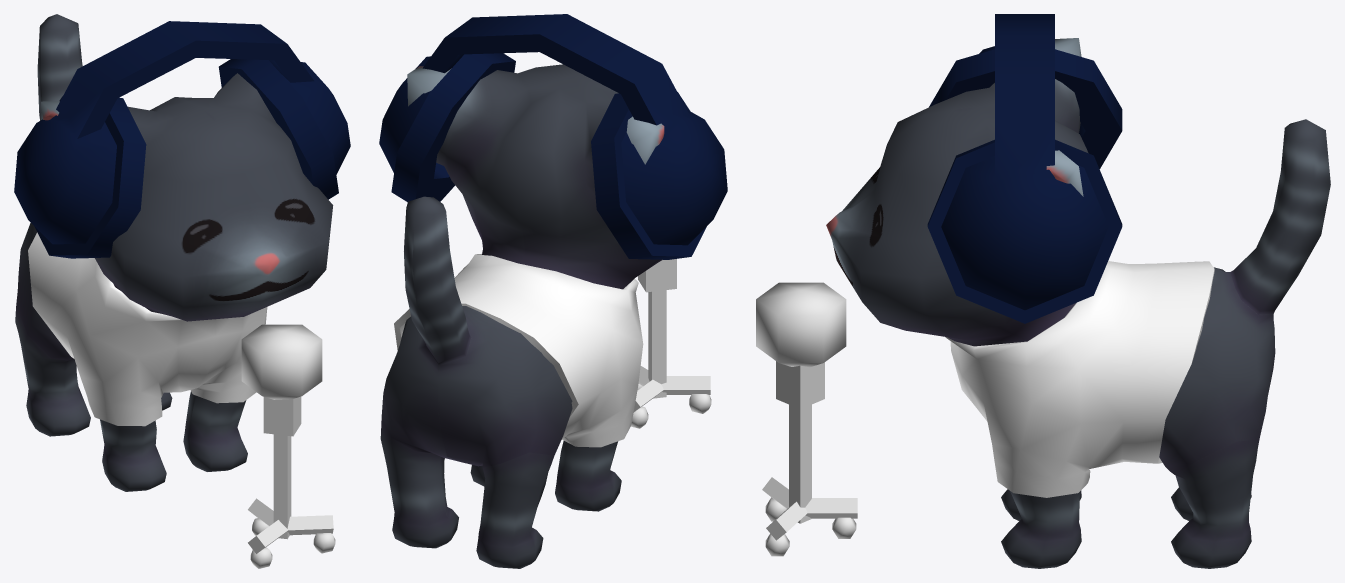
Rendered from Broadcaster Cat04.fbx.
The picture shows the model from 3 angles, left to right: view 1: azimuth 30°, elevation 25°; view 2: azimuth 150°, elevation 25°; view 3: azimuth 270°, elevation 25°; orthographic projection. The views are drawn at different scales.
Parts seen in each view (by area): view 1: Cat_Base003, Broadcaster_Cat_Headphones, Broadcaster_Cat_Shirt, Broadcaster_Cat_Mic; view 2: Cat_Base003, Broadcaster_Cat_Headphones, Broadcaster_Cat_Shirt, Broadcaster_Cat_Mic; view 3: Cat_Base003, Broadcaster_Cat_Headphones, Broadcaster_Cat_Shirt, Broadcaster_Cat_Mic.
Boxes of the visible parts, x1,y1,x2,y2 form: Cat_Base003: [15, 14, 333, 491]; Broadcaster_Cat_Headphones: [14, 21, 350, 258]; Broadcaster_Cat_Shirt: [28, 232, 267, 426]; Broadcaster_Cat_Mic: [241, 324, 335, 568]; Cat_Base003: [380, 64, 664, 568]; Broadcaster_Cat_Headphones: [379, 14, 727, 259]; Broadcaster_Cat_Shirt: [394, 254, 643, 447]; Broadcaster_Cat_Mic: [631, 259, 711, 428]; Cat_Base003: [826, 38, 1330, 568]; Broadcaster_Cat_Headphones: [927, 14, 1122, 323]; Broadcaster_Cat_Shirt: [945, 261, 1214, 497]; Broadcaster_Cat_Mic: [756, 282, 857, 556].
Size of the model in its own units: 2.24 by 3.22 by 3.1.
Materials: 3 (1 with a texture image).
